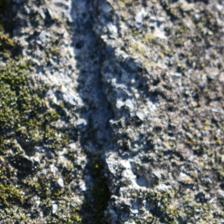Crack: (67, 8, 129, 219)
